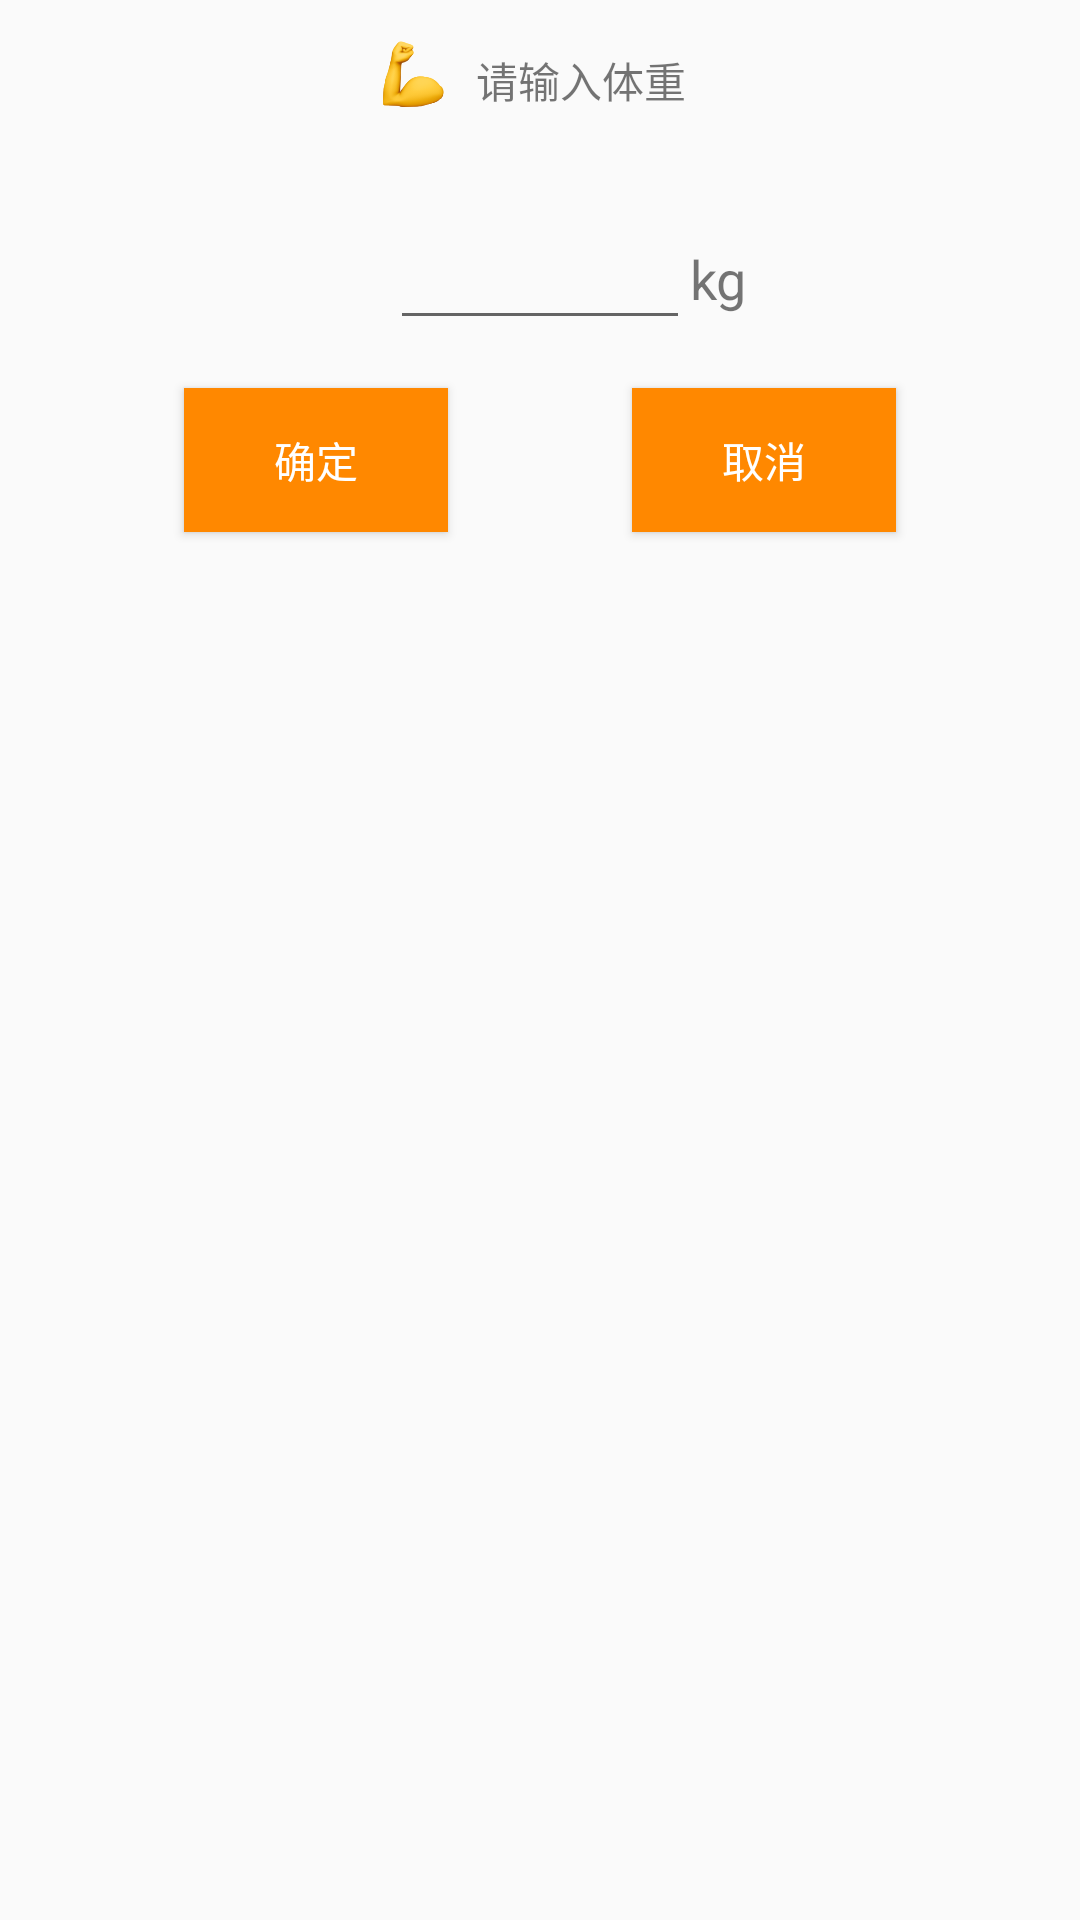

Icons on this 1080px x 1920px Android screen, each with the point to tap as (x=x, y=y):
feats: (x=413, y=74)
